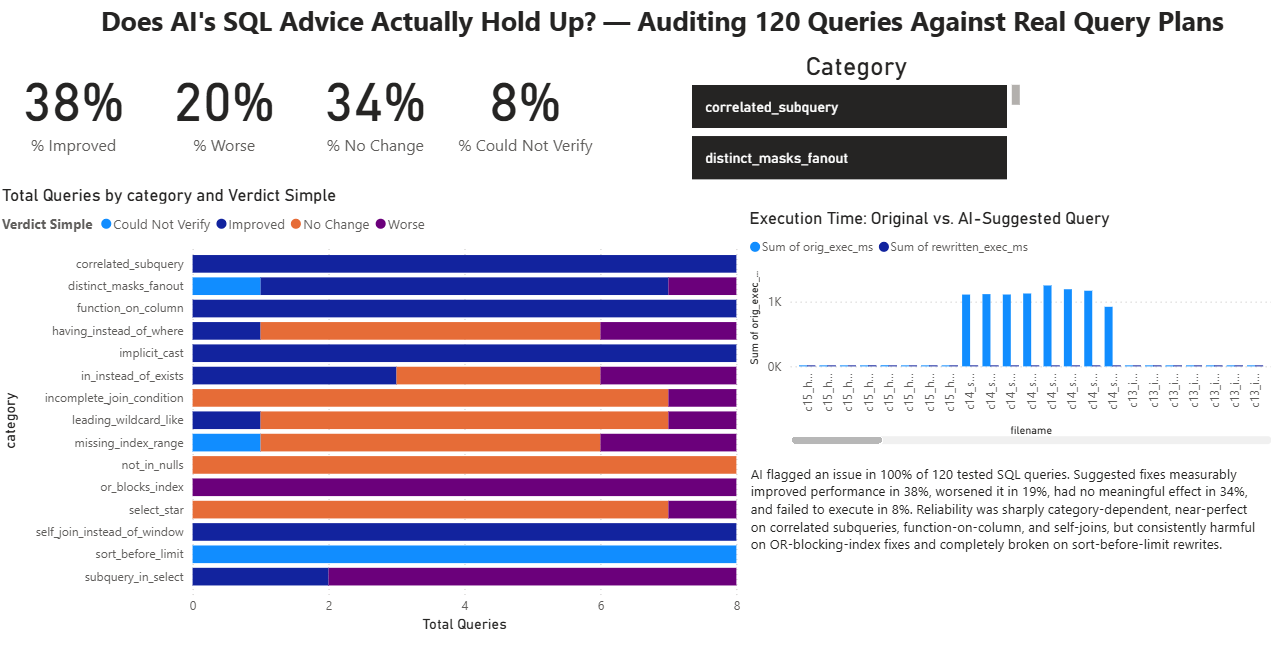

Layout of this report page (visuals, bound fields, positions):
{"tool":"powerbi","page":{"name":"Page 1","canvas":[1280,720],"ordinal":0},"visuals":[{"type":"card","fields":{"Values":["verified_results.% Improved"]},"box":[0,54.4,153.6,108.9],"z":0,"group":"g1"},{"type":"barChart","fields":{"Series":["verified_results.Verdict Simple"],"Y":["verified_results.Total Queries"],"Category":["verified_results.category"]},"box":[0,187.1,748.6,452.9],"z":0},{"type":"card","fields":{"Values":["verified_results.% Worse"]},"box":[153.6,54.4,147.3,108.9],"z":1000,"group":"g1"},{"type":"clusteredColumnChart","title":"Execution Time: Original vs. AI-Suggested Query","fields":{"Category":["verified_results.filename"],"Y":["Sum(verified_results.orig_exec_ms)","Sum(verified_results.rewritten_exec_ms)"]},"box":[747.8,211.1,532.2,241.1],"z":1000},{"type":"group","id":"g1","title":"Group 1","box":[0,54.4,605.6,108.9],"z":2000},{"type":"card","fields":{"Values":["verified_results.% No Change"]},"box":[300.9,54.4,154.6,108.9],"z":2000,"group":"g1"},{"type":"card","fields":{"Values":["verified_results.% Could Not Verify"]},"box":[451,54.4,154.6,108.7],"z":3000,"group":"g1"},{"type":"advancedSlicerVisual","title":"Category","fields":{"Values":["verified_results.category"]},"box":[690,54.4,338.9,132.2],"z":3000},{"type":"textbox","box":[99,0,1181,54],"z":4000},{"type":"textbox","box":[748.9,462.2,517.8,133.3],"z":5000}]}

Visuals, with their boxes on the page's 1280x720 design canvas (x1, y1, x2, y2). These are canvas units, not pixel positions in the 1276x671 screenshot, which may show the page scaled, cropped or inside an application window:
card - verified_results.% Improved: box(0, 54, 154, 163)
barChart - verified_results.Verdict Simple x verified_results.Total Queries: box(0, 187, 749, 640)
card - verified_results.% Worse: box(154, 54, 301, 163)
"Execution Time: Original vs. AI-Suggested Query" clusteredColumnChart: box(748, 211, 1280, 452)
"Group 1" group: box(0, 54, 606, 163)
card - verified_results.% No Change: box(301, 54, 456, 163)
card - verified_results.% Could Not Verify: box(451, 54, 606, 163)
"Category" advancedSlicerVisual: box(690, 54, 1029, 187)
textbox: box(99, 0, 1280, 54)
textbox: box(749, 462, 1267, 596)
